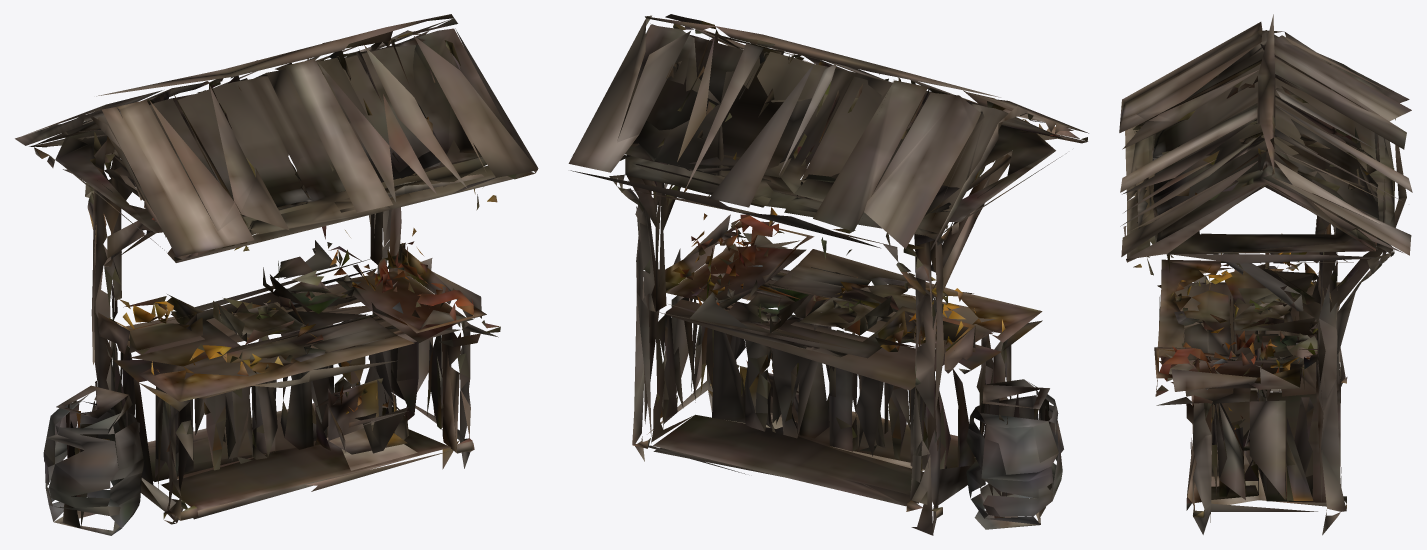
The model's file is Rustic_Market_Stall_town.glb.
The picture shows the model from 3 angles, left to right: view 1: azimuth 30°, elevation 25°; view 2: azimuth 150°, elevation 25°; view 3: azimuth 270°, elevation 25°; orthographic projection. The views are drawn at different scales.
Visible parts, largest first — view 1: Rustic_Market_Stall; view 2: Rustic_Market_Stall; view 3: Rustic_Market_Stall.
Part boxes in pixels (box(x1,y1,x2,y2)): Rustic_Market_Stall: box(15, 14, 538, 535); Rustic_Market_Stall: box(568, 14, 1088, 535); Rustic_Market_Stall: box(1119, 14, 1412, 535).
Bounding box in the file's own units: 1.92 × 1.89 × 1.33.
1 material, 1 textured.
